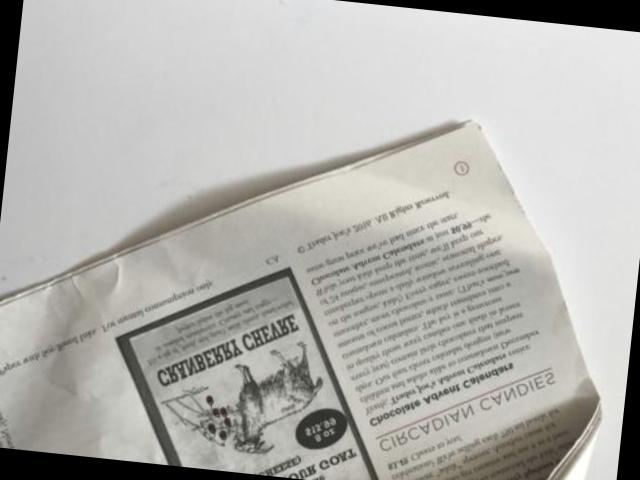cardboard paper: (0, 121, 602, 480)
